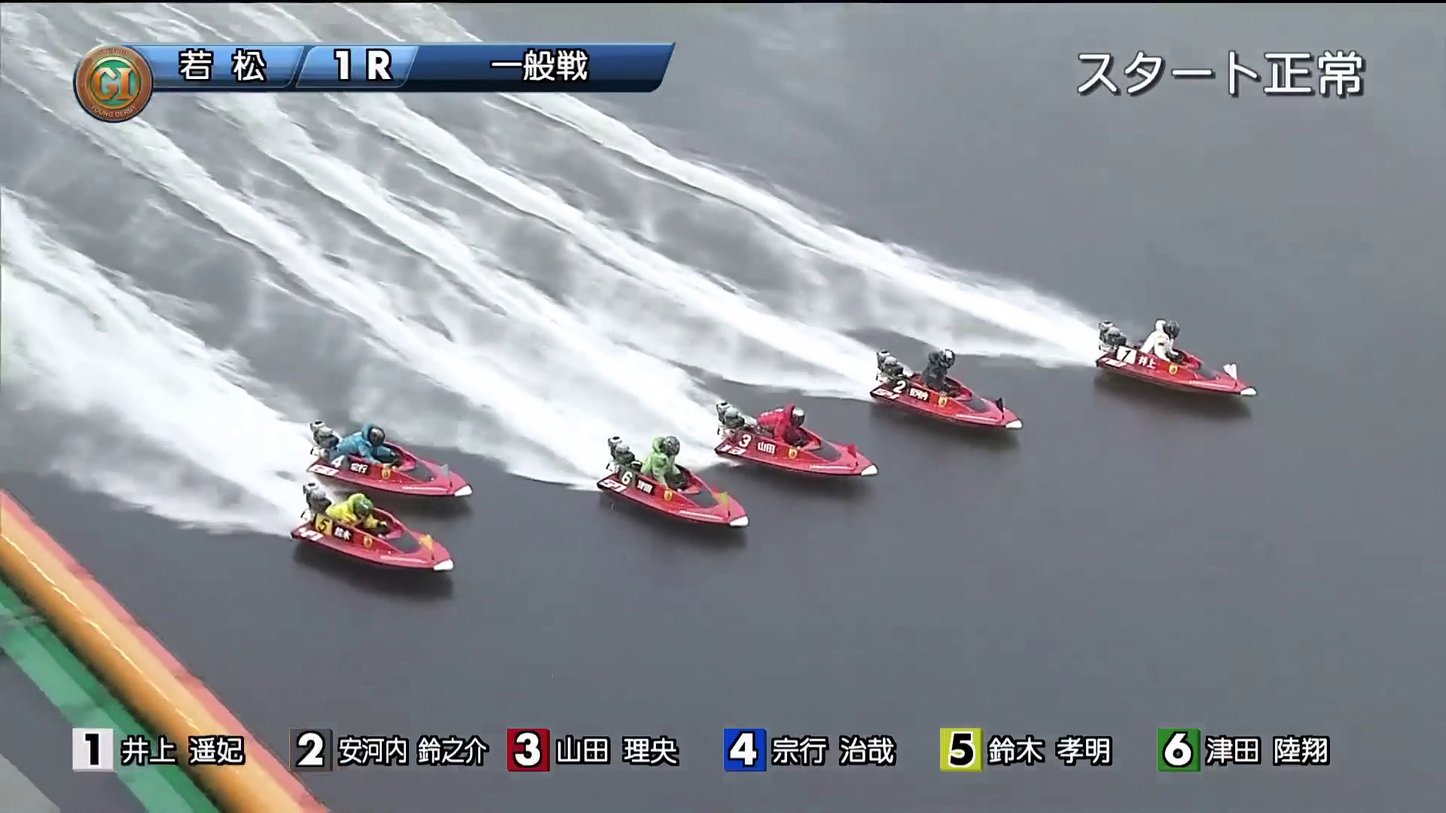１号艇: (1104, 342, 1239, 395)
２号艇: (880, 360, 1007, 420)
３号艇: (745, 425, 883, 467)
４号艇: (620, 458, 739, 522)
５号艇: (330, 435, 453, 490)
６号艇: (350, 524, 450, 581)
